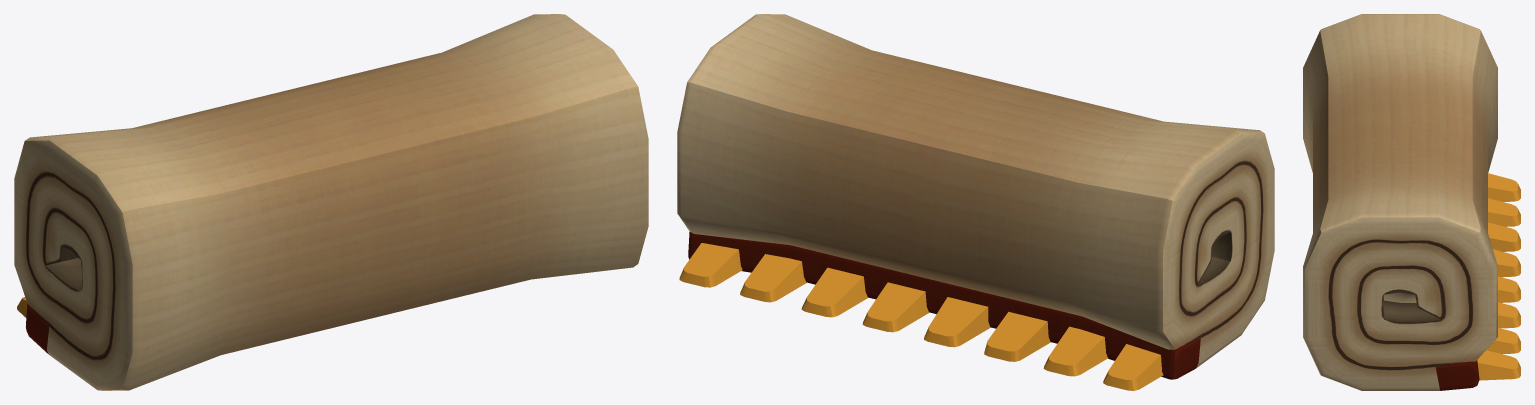
File: bed roll.glb
3 views of the same model, side by side, from view 1: azimuth 30°, elevation 25°; view 2: azimuth 150°, elevation 25°; view 3: azimuth 270°, elevation 25° (orthographic). The views are drawn at different scales.
Parts seen in each view (by area): view 1: Quest_Bedroll_Rolled; view 2: Quest_Bedroll_Rolled; view 3: Quest_Bedroll_Rolled.
Part boxes in pixels (box(x1,y1,x2,y2)): Quest_Bedroll_Rolled: box(14, 14, 648, 390); Quest_Bedroll_Rolled: box(677, 14, 1274, 390); Quest_Bedroll_Rolled: box(1303, 14, 1520, 390).
Bounding box in the file's own units: 0.8452 × 0.3393 × 0.3789.
1 material, 1 textured.
